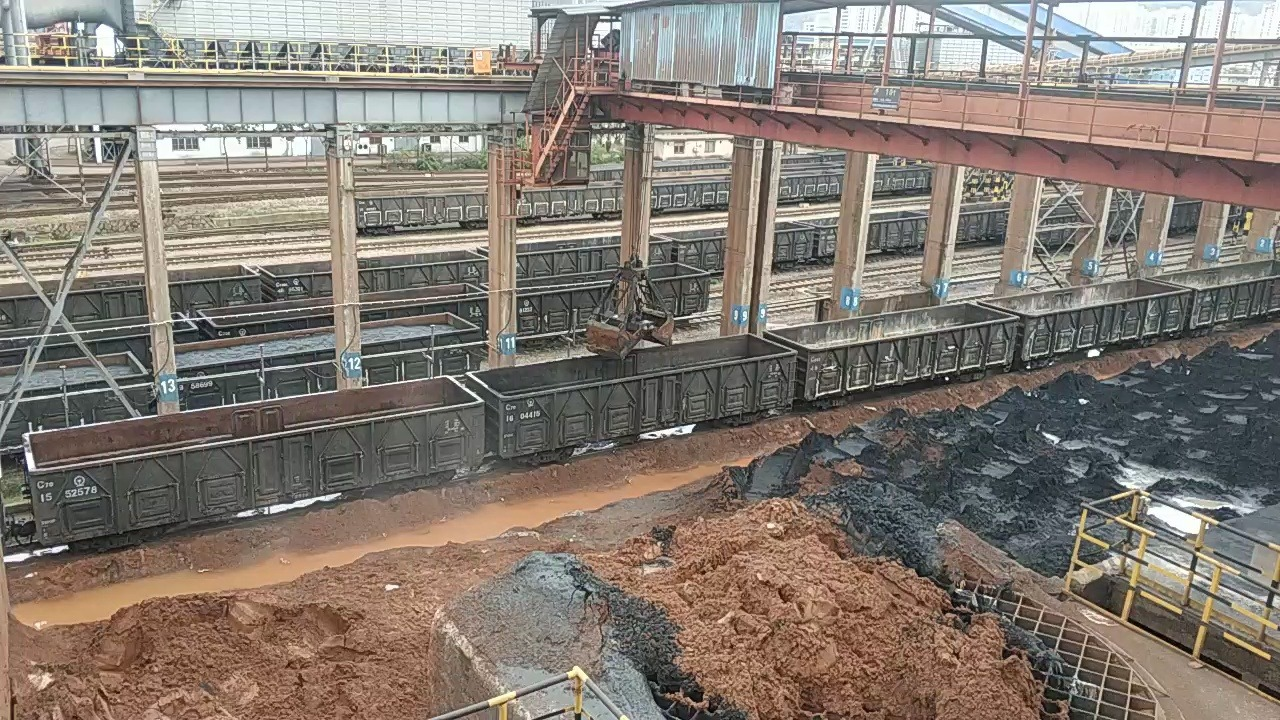grab: (579, 248, 678, 358)
